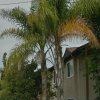Palm tree: (9, 1, 62, 93)
